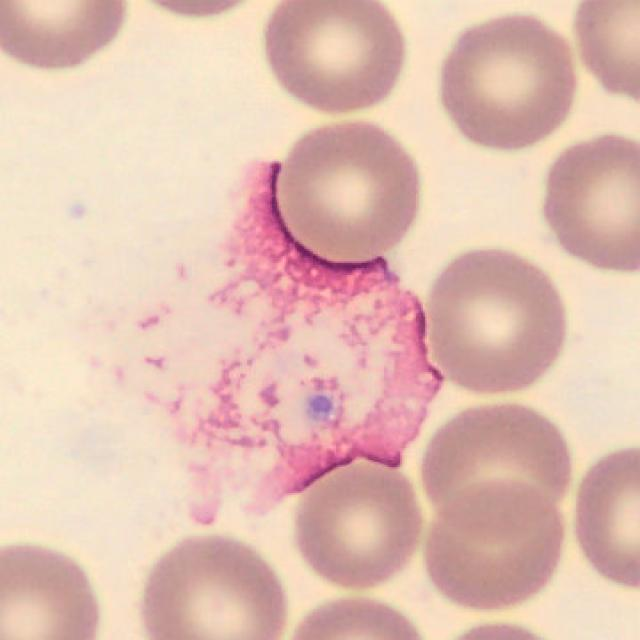Artefato: (116, 163, 439, 519)
